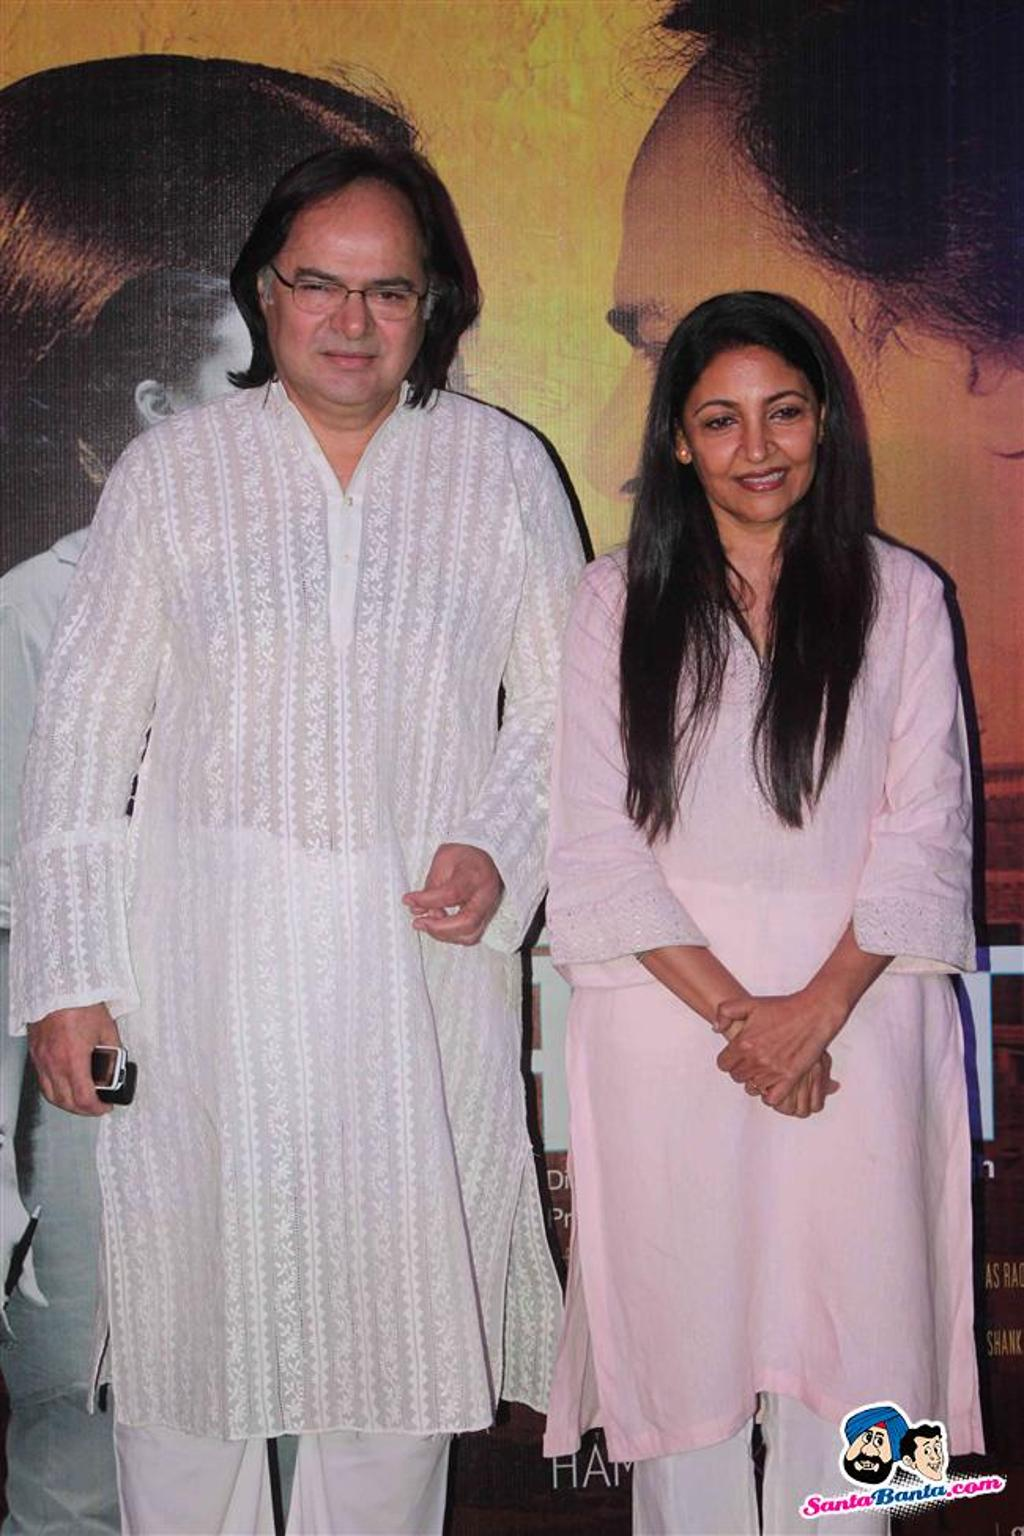face: (600, 51, 1024, 776), (270, 192, 423, 405), (685, 351, 817, 522)
